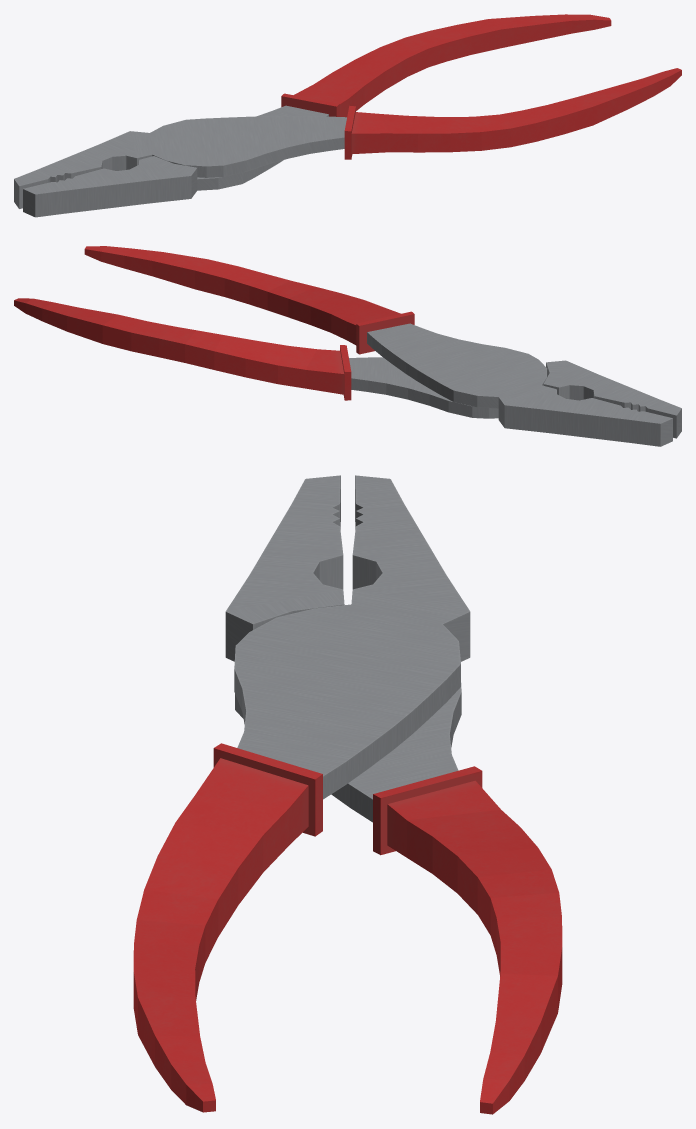
File: Defuse Tool.fbx
The picture shows the model from 3 angles, top to bottom: view 1: azimuth 30°, elevation 25°; view 2: azimuth 150°, elevation 25°; view 3: azimuth 270°, elevation 25°; orthographic projection. The views are drawn at different scales.
Parts seen in each view (by area): view 1: Defuse Tool, Defuse Tool.002; view 2: Defuse Tool, Defuse Tool.002; view 3: Defuse Tool, Defuse Tool.002.
Boxes of the visible parts, <box> form: Defuse Tool: <box>14,68,681,208</box>; Defuse Tool.002: <box>23,14,611,217</box>; Defuse Tool: <box>84,246,672,446</box>; Defuse Tool.002: <box>14,298,681,438</box>; Defuse Tool: <box>133,475,470,1112</box>; Defuse Tool.002: <box>225,475,562,1114</box>.
Bounding box in the file's own units: 37.51 × 2.3 × 11.15.
1 material, 1 textured.
